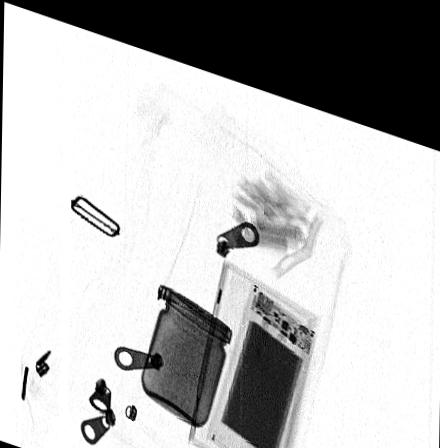Powerbank: (207, 265, 316, 448)
